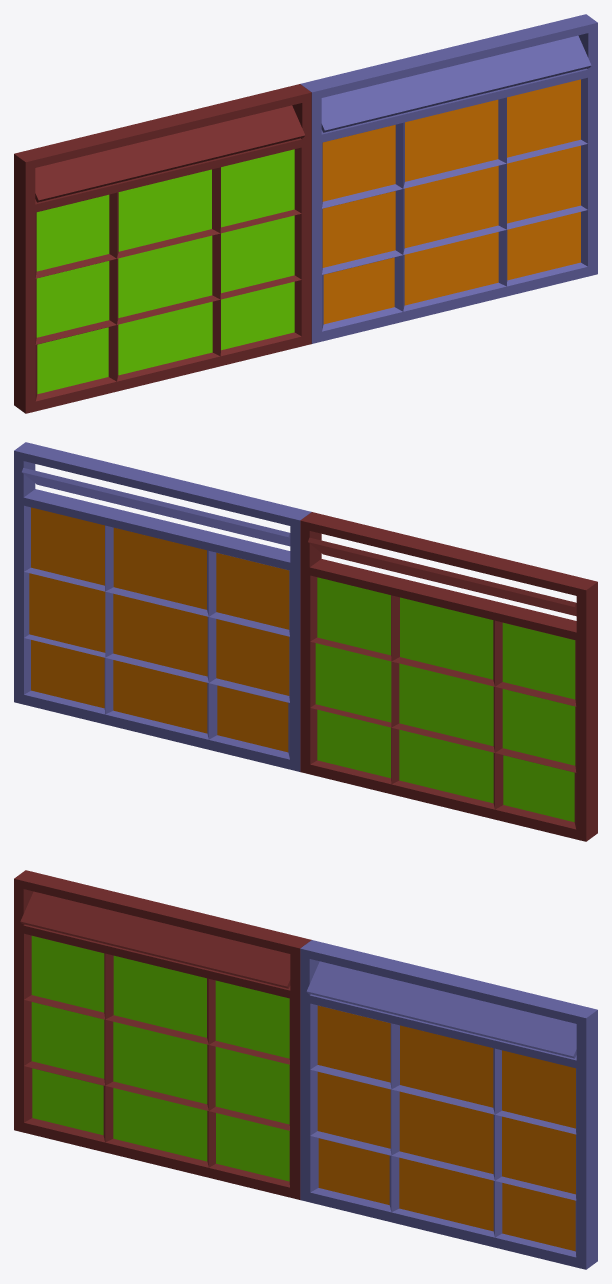
The model's file is JanelaRECEP.fbx.
The picture shows the model from 3 angles, top to bottom: view 1: azimuth 30°, elevation 25°; view 2: azimuth 150°, elevation 25°; view 3: azimuth 330°, elevation 25°; orthographic projection.
Parts seen in each view (by area): view 1: pCube2, pCube1; view 2: pCube2, pCube1; view 3: pCube1, pCube2.
Boxes of the visible parts, x1,y1,x2,y2 form: pCube2: (14,84,311,413); pCube1: (300,14,597,343); pCube2: (300,512,597,841); pCube1: (14,442,311,771); pCube1: (300,940,597,1269); pCube2: (14,870,311,1199).
Bounding box in the file's own units: 4.27 × 1.79 × 0.2188.
